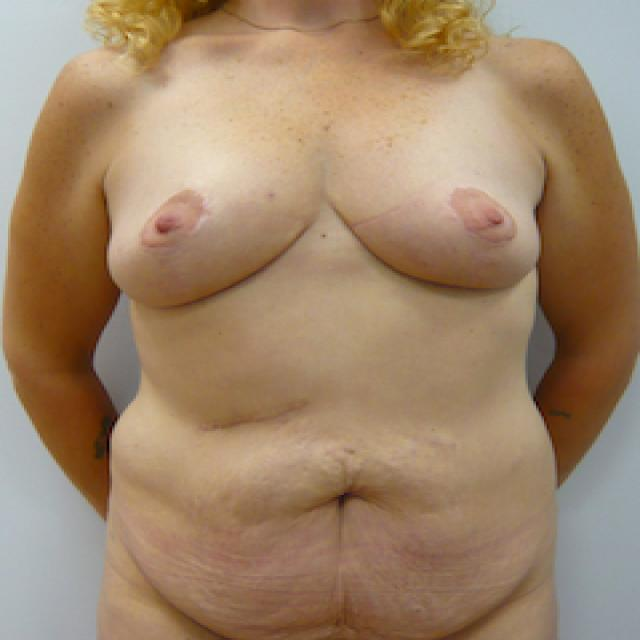Seno ileso: (100, 136, 322, 322), (327, 136, 548, 302)
